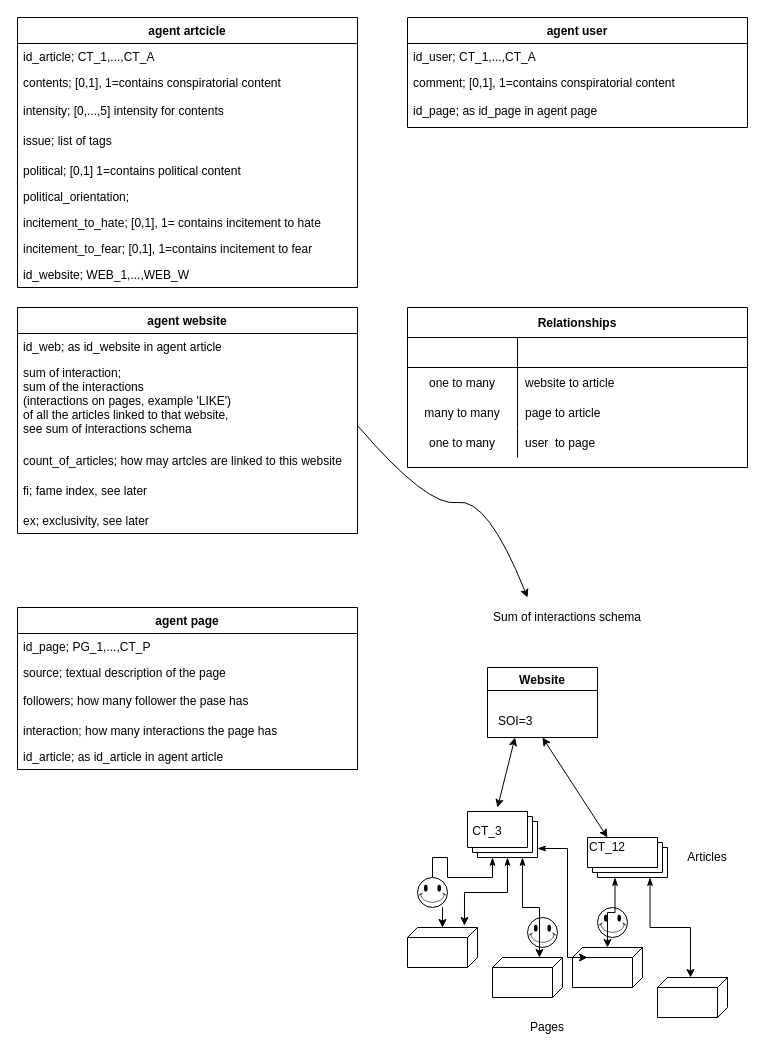
The diagram is 765 pixels wide and 1055 high, and some of its shapes have lost their labels. Each missing label, with the centre of its shape:
"PG_1000" goes at (442,947).
"PG_250" goes at (692,997).
"PG_300" goes at (607,967).
"PG_500" goes at (527,977).
